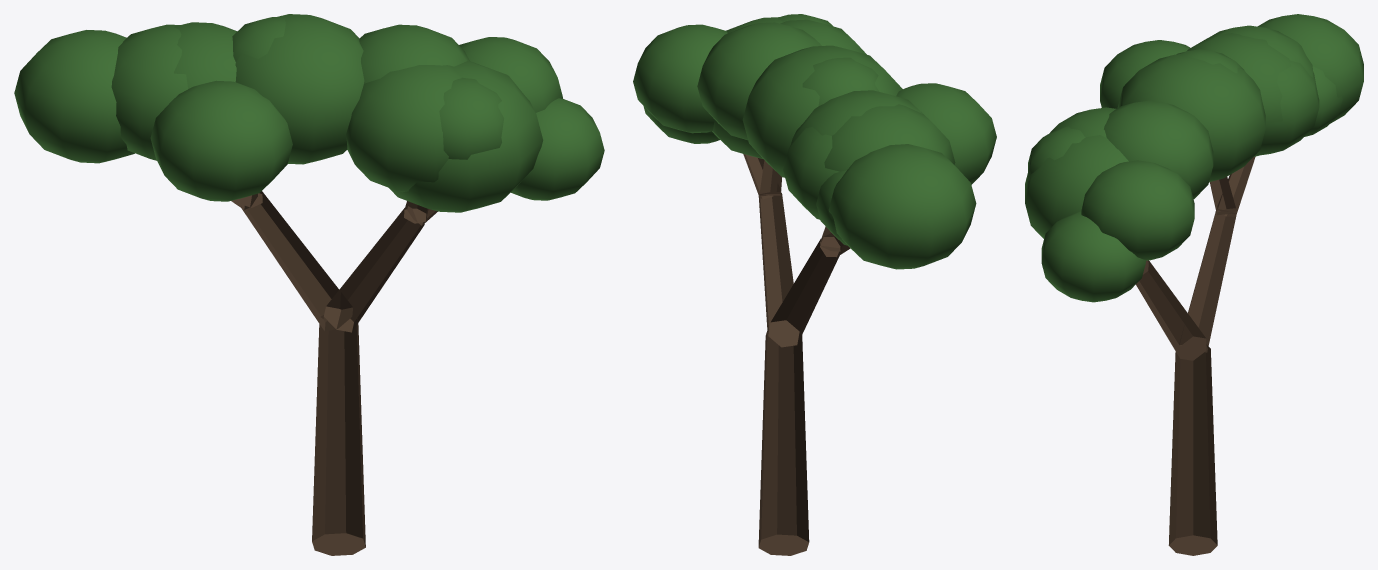
File: tree-broadleaf-3.glb
The picture shows the model from 3 angles, left to right: view 1: azimuth 30°, elevation 25°; view 2: azimuth 150°, elevation 25°; view 3: azimuth 270°, elevation 25°; orthographic projection. The views are drawn at different scales.
Parts seen in each view (by area): view 1: tree-broadleaf-3; view 2: tree-broadleaf-3; view 3: tree-broadleaf-3.
Boxes of the visible parts, <box> form: tree-broadleaf-3: <box>14,14,604,555</box>; tree-broadleaf-3: <box>633,14,996,555</box>; tree-broadleaf-3: <box>1025,14,1363,555</box>.
Size of the model in its own units: 9.32 by 10.42 by 6.86.
